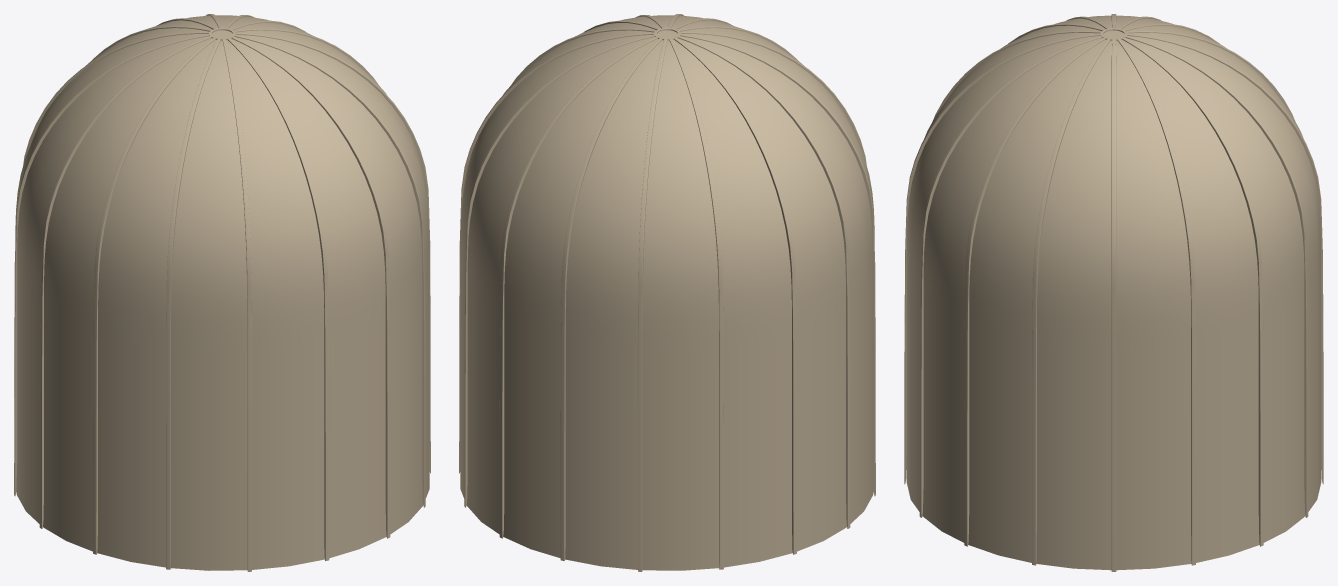
File: DomeUVFix.fbx
The picture shows the model from 3 angles, left to right: view 1: azimuth 30°, elevation 25°; view 2: azimuth 150°, elevation 25°; view 3: azimuth 270°, elevation 25°; orthographic projection.
Parts seen in each view (by area): view 1: MUKAAB-Sphere; view 2: MUKAAB-Sphere; view 3: MUKAAB-Sphere.
Part boxes in pixels (x1,y1,x2,y2): MUKAAB-Sphere: (14, 14, 430, 571); MUKAAB-Sphere: (459, 14, 875, 571); MUKAAB-Sphere: (904, 14, 1323, 571).
Size of the model in its own units: 31110 by 36808 by 31110.
